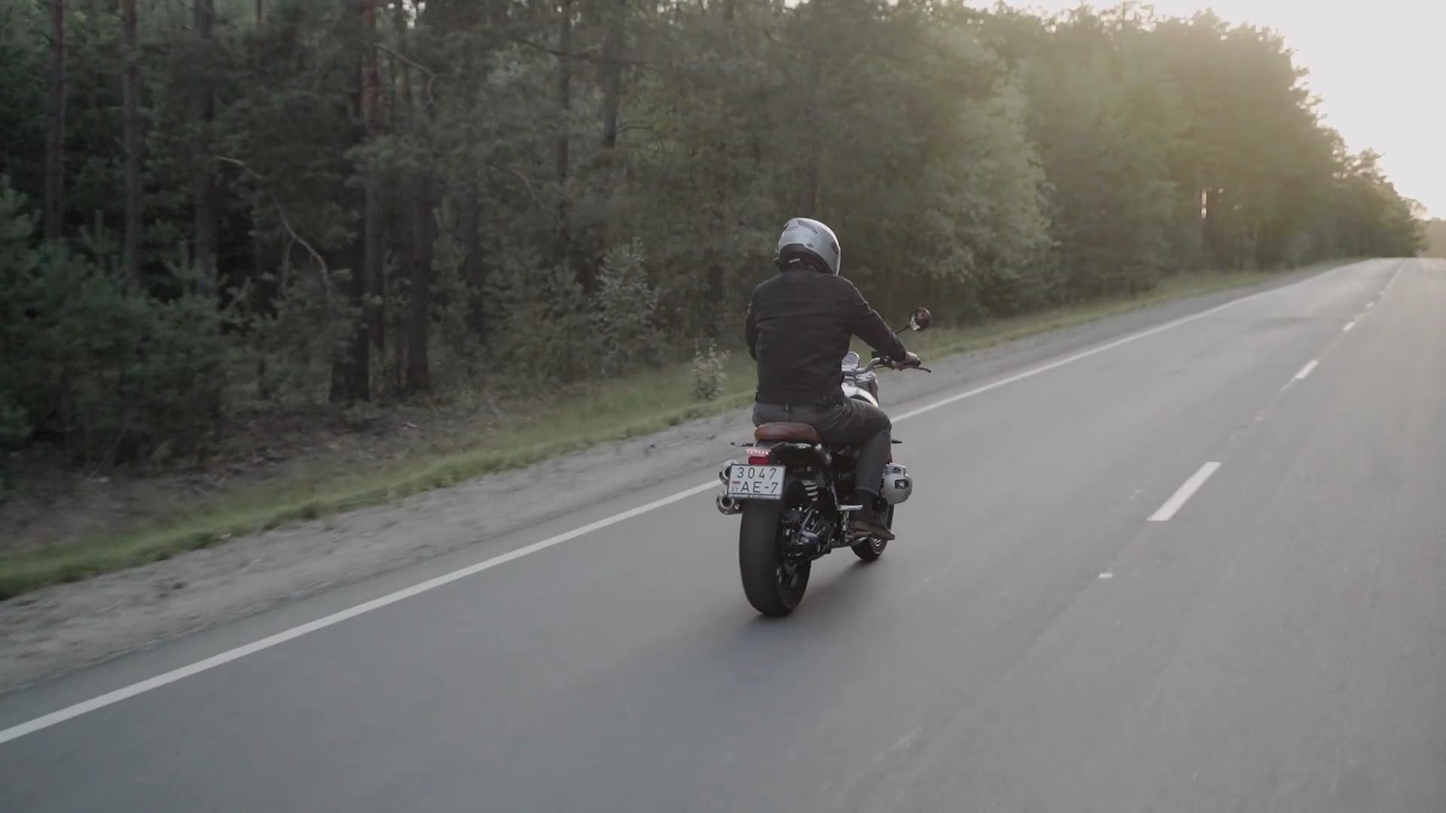driver: (715, 216, 932, 616)
helmet: (774, 216, 840, 278)
